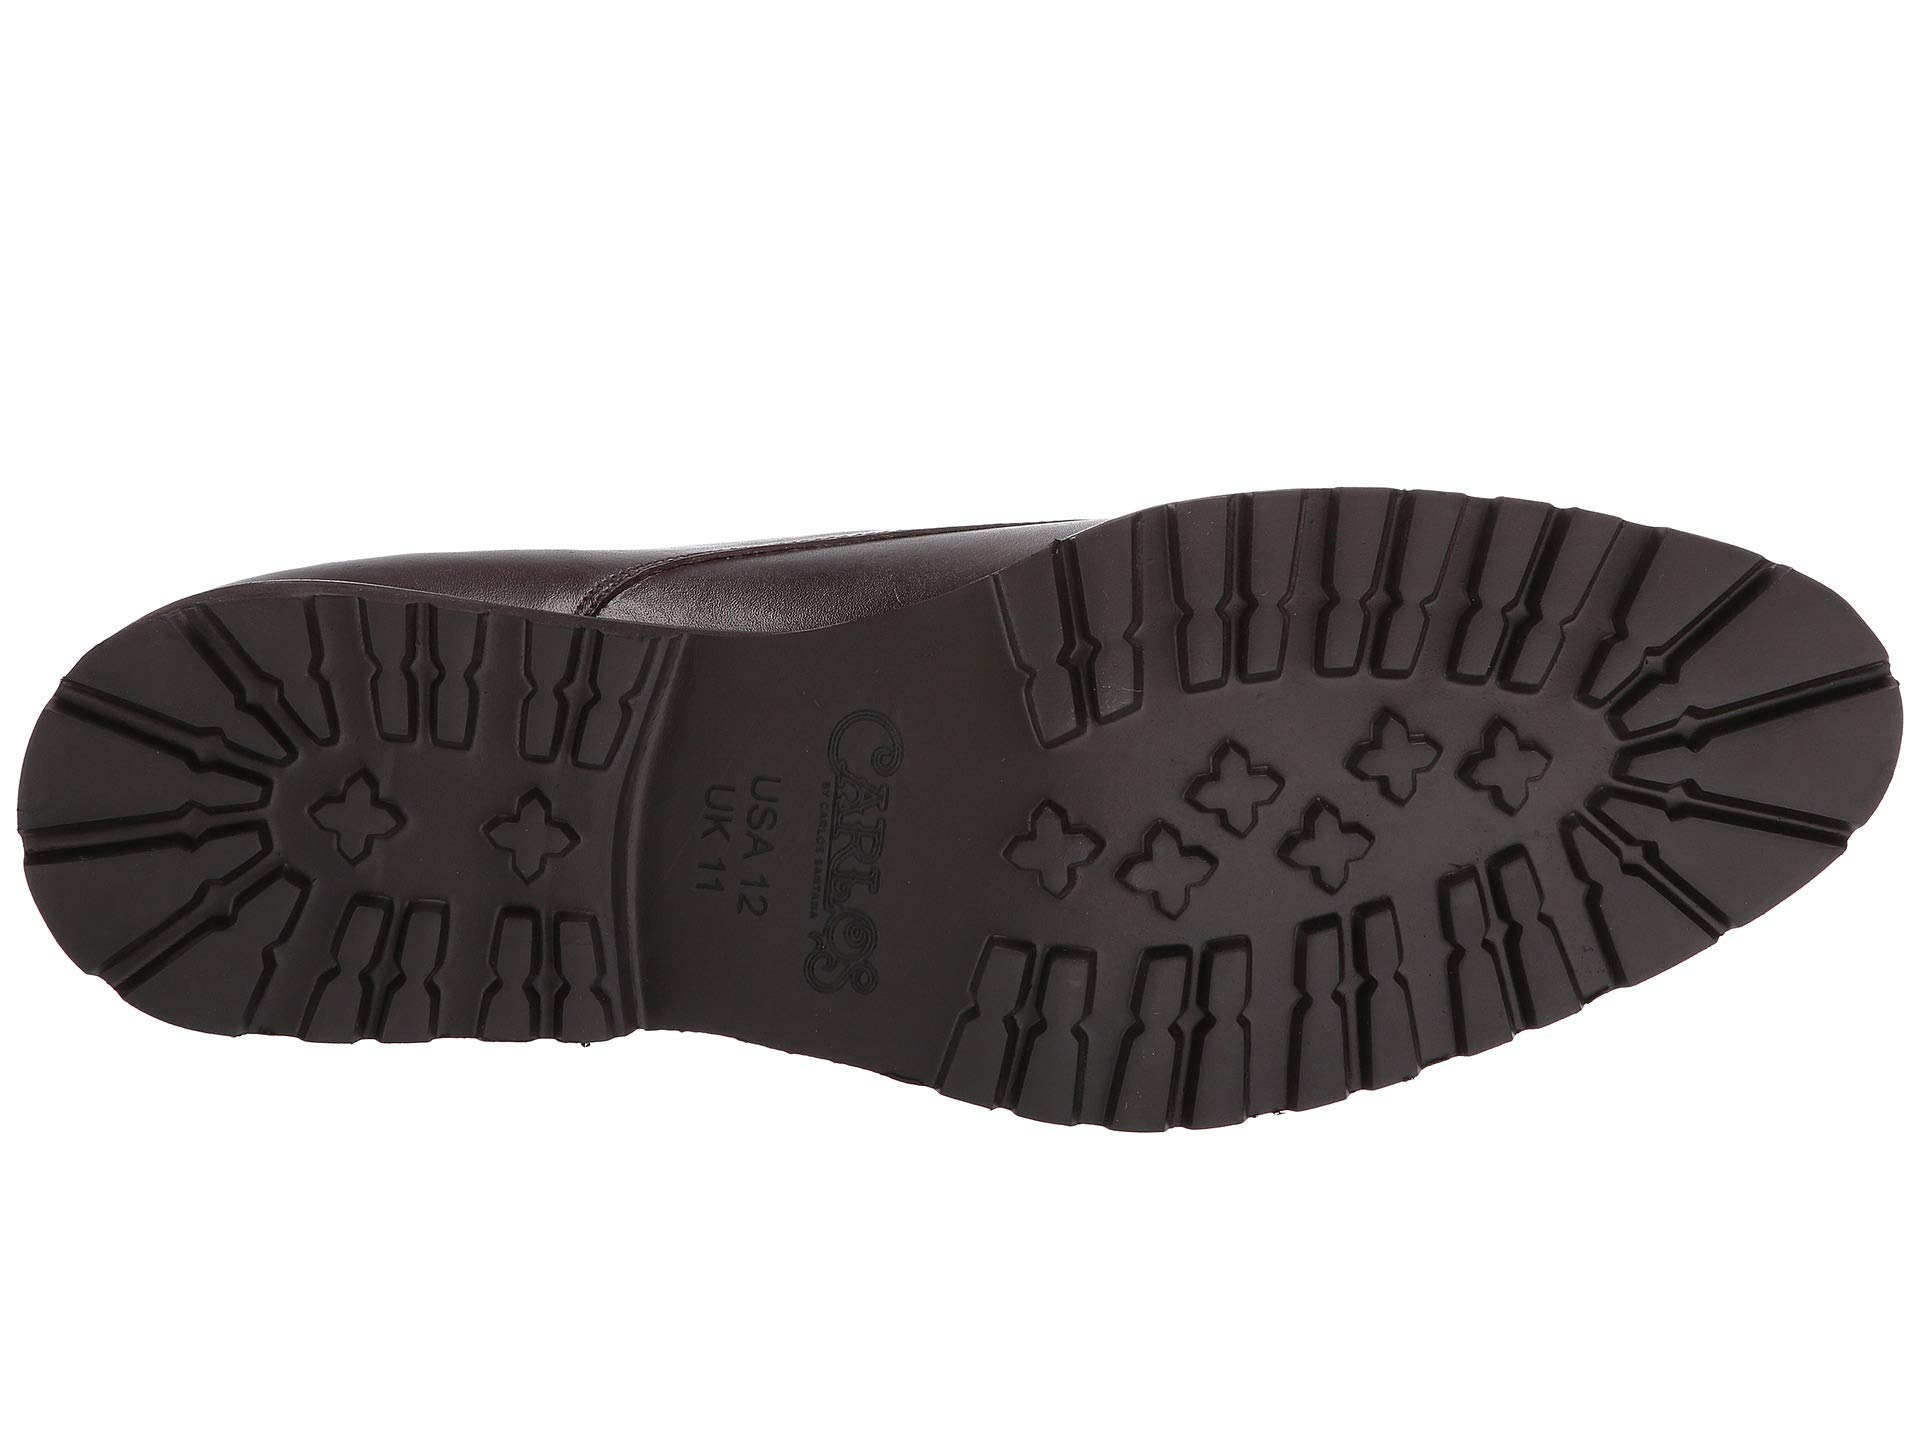star: (1332, 685, 1563, 889), (287, 746, 434, 892), (1002, 765, 1120, 920), (1175, 709, 1299, 855)
